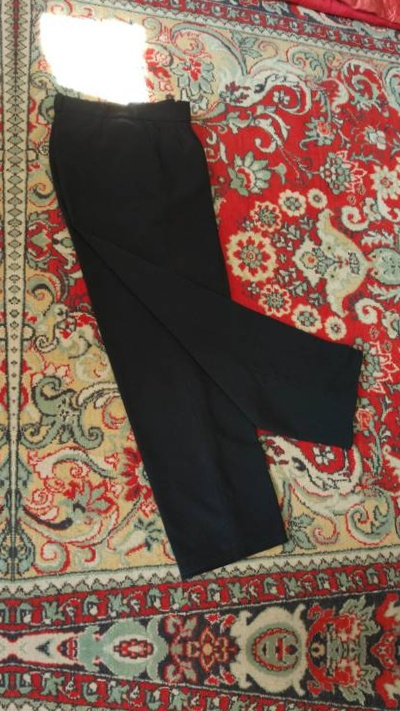Pants: (49, 41, 358, 589), (45, 710, 354, 711)
